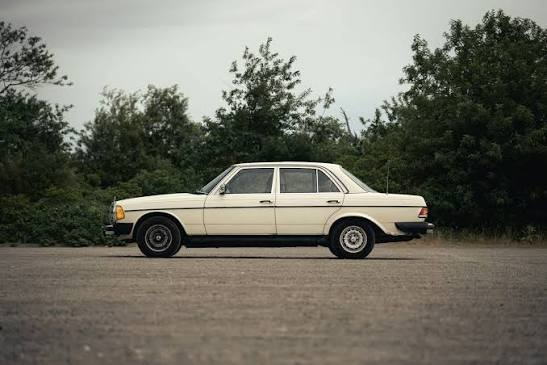car: (113, 155, 427, 264), (119, 156, 426, 266)
